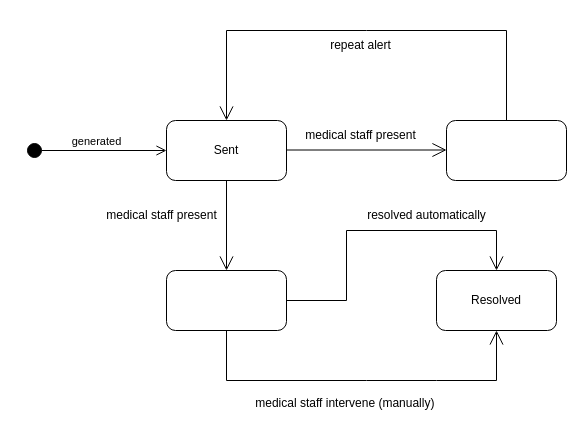
The diagram is 584 pixels wide and 436 high, and some of its shapes have lost their labels. Here are the shapes that lost their labels. From the top down, the box of each, then its label:
(446, 120, 566, 180): Not Acknowledged
(166, 270, 286, 330): Acknowledged
